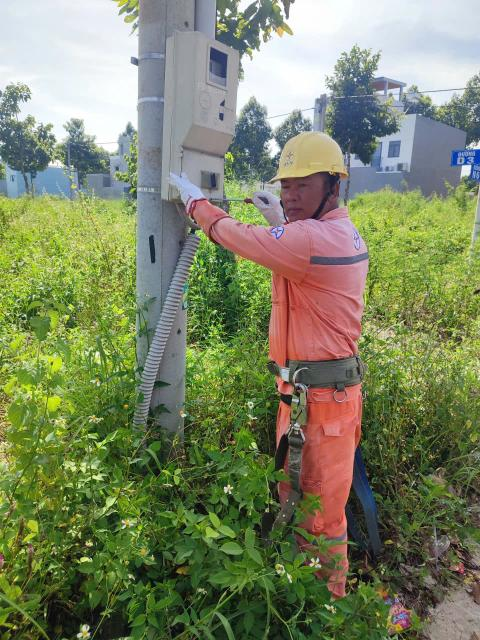gloves: (168, 170, 209, 210), (252, 188, 289, 232)
harness: (259, 347, 381, 395)
helmet: (275, 129, 359, 184)
